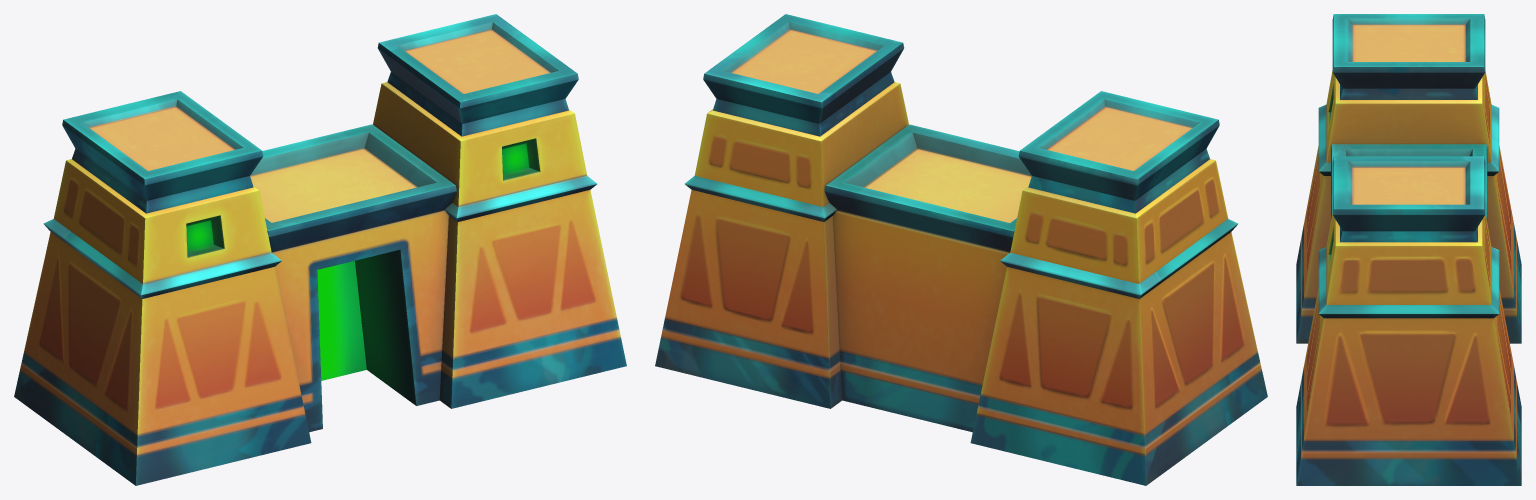
File: egypt_gate_2.fbx
3 renders of one model, left to right at view 1: azimuth 30°, elevation 25°; view 2: azimuth 150°, elevation 25°; view 3: azimuth 270°, elevation 25°, orthographic. The views are drawn at different scales.
Visible parts, largest first — view 1: Cube.093; view 2: Cube.093; view 3: Cube.093.
Part boxes in pixels (x1=…): Cube.093: x1=14, y1=14, x2=626, y2=485; Cube.093: x1=655, y1=14, x2=1267, y2=485; Cube.093: x1=1296, y1=14, x2=1521, y2=485.
Size of the model in its own units: 6034 by 3344 by 2592.
